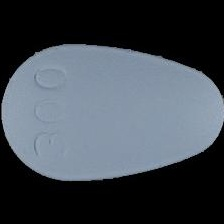69189-0401: (0, 0, 224, 224)
